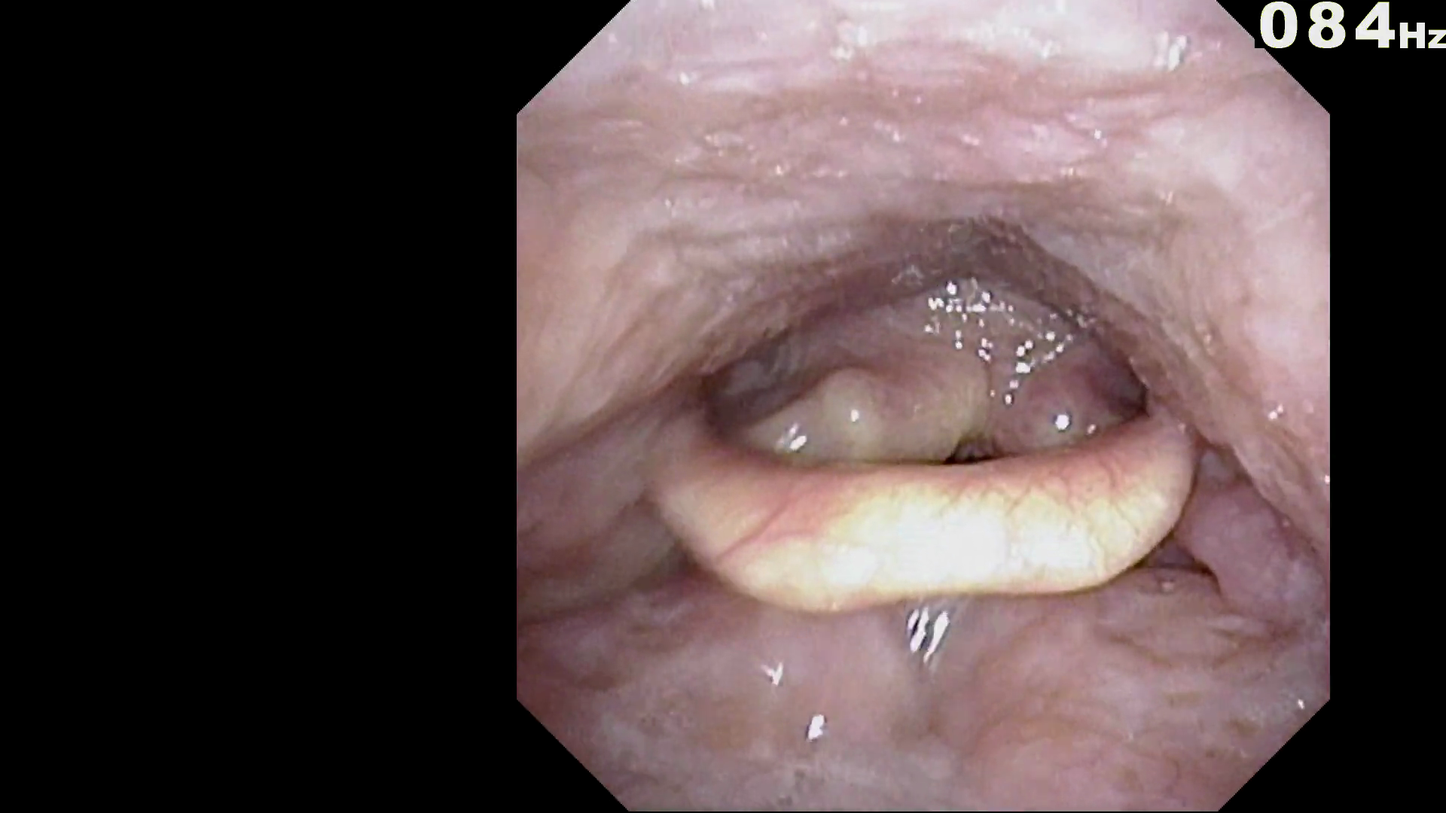epiglottis: (637, 374, 1219, 652)
trachea: (938, 418, 1021, 507)
